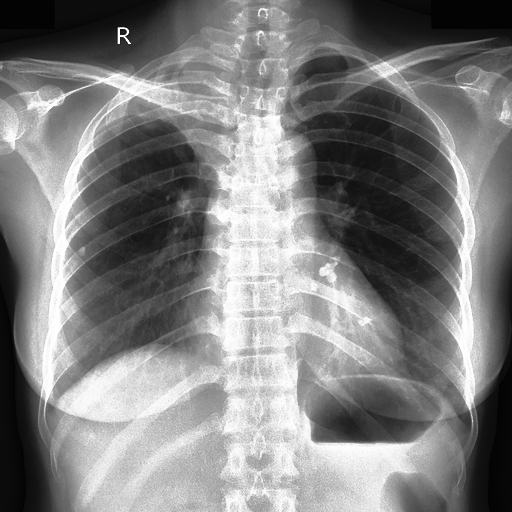Aortic enlargement: (121, 51, 230, 170)
Infiltration: (104, 56, 233, 165)
Lung Opacity: (317, 259, 340, 282), (359, 317, 371, 326), (75, 247, 86, 255)
Pleural thickening: (104, 56, 233, 165)
Pulmonary fibrosis: (319, 256, 341, 283), (359, 316, 372, 325), (77, 245, 85, 254)
